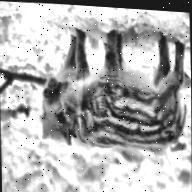boar: (38, 24, 192, 161)
